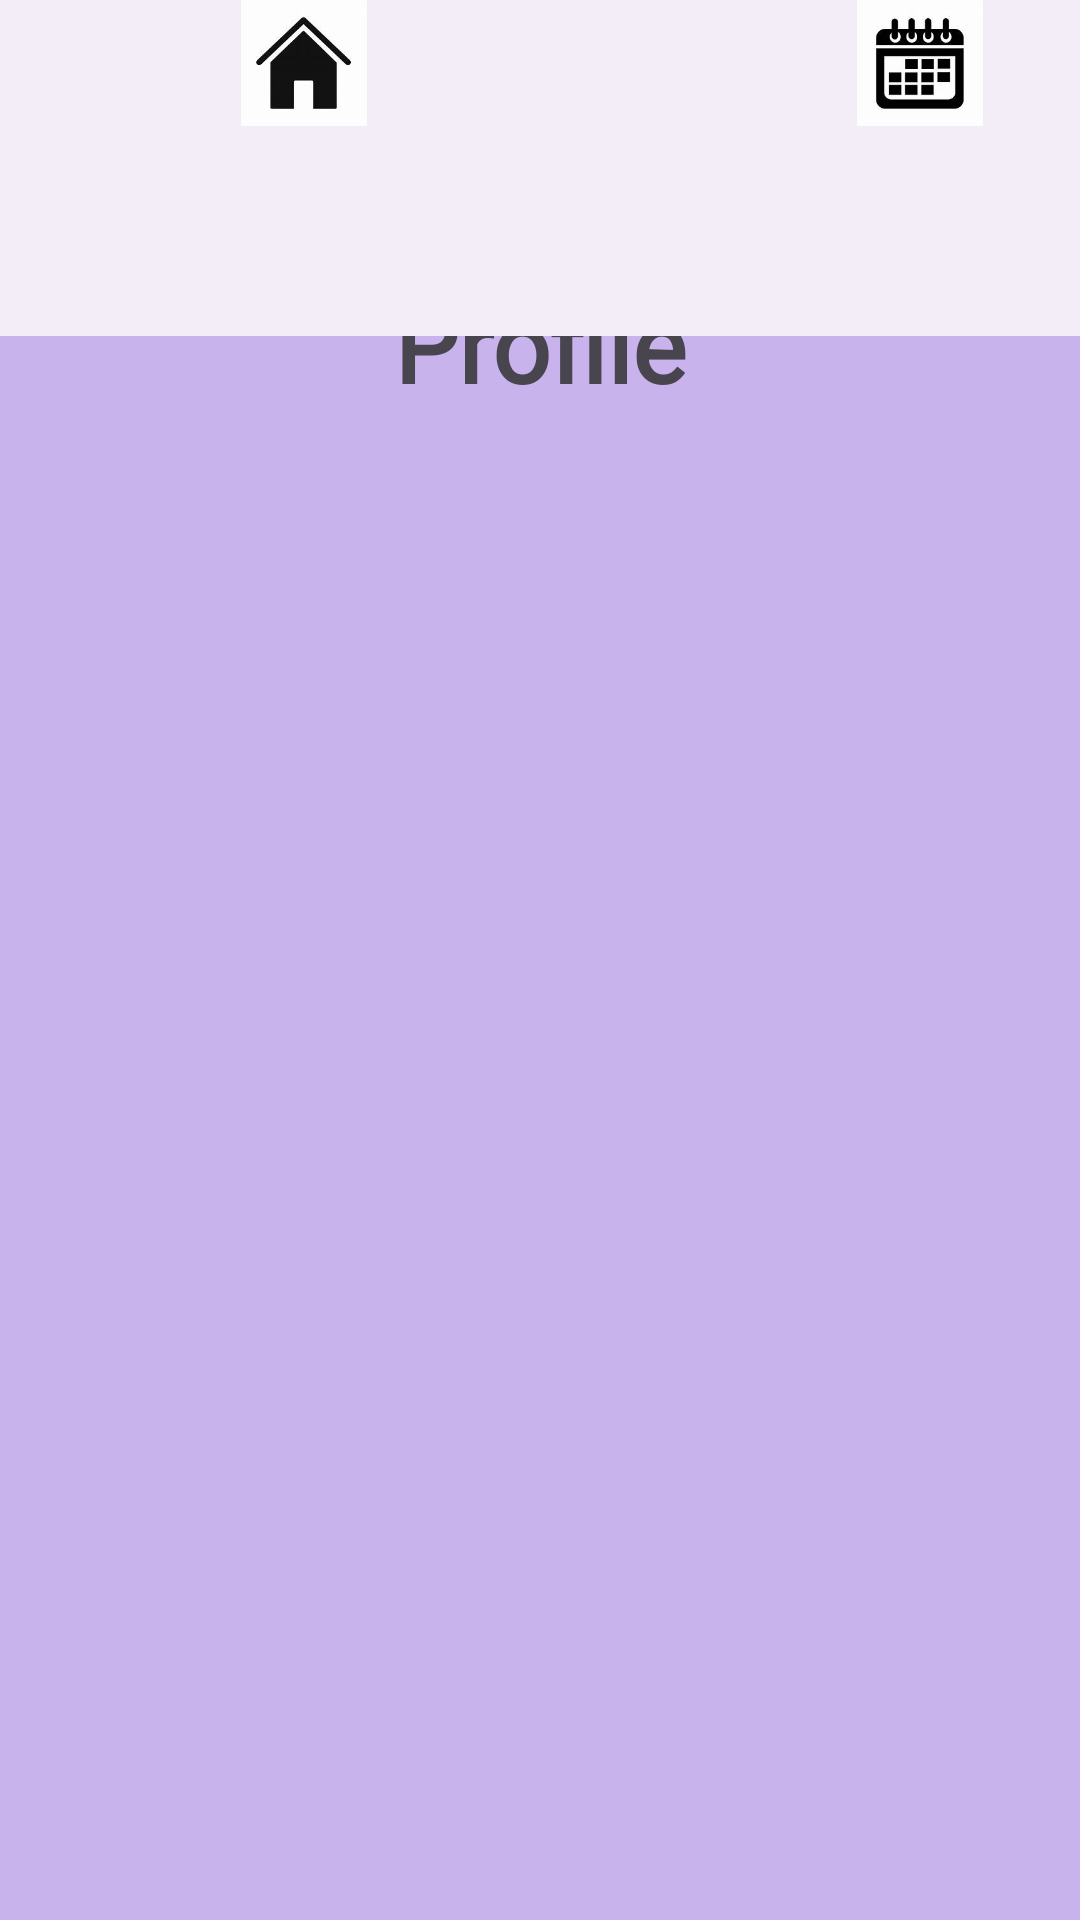

Named icons in this screenshot (1080x1920) and their bounding boxes, (x1, y1, x2, y2):
hom: (256, 17, 351, 109)
